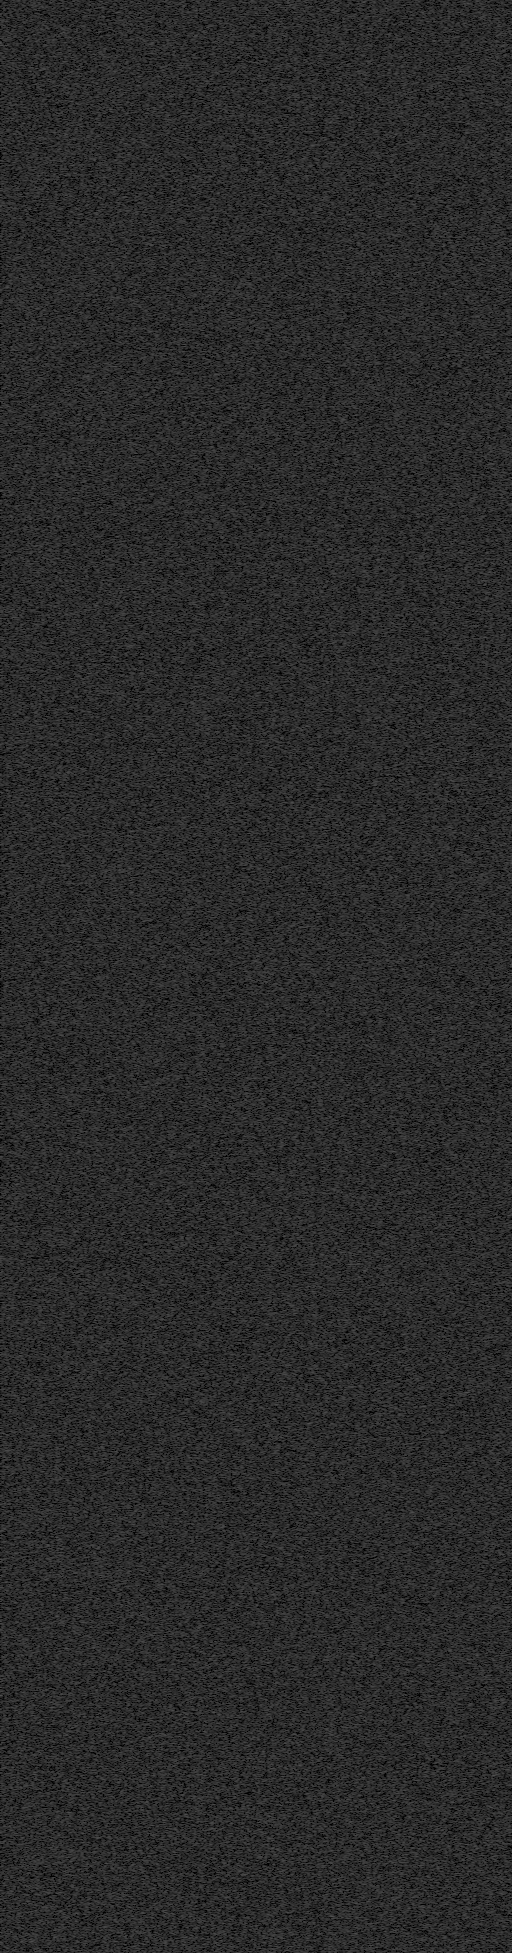wv_cw: (485, 0, 490, 1952)
wv_lsb: (472, 367, 477, 568), (472, 110, 477, 196), (472, 1258, 477, 1341), (472, 1478, 477, 1559), (472, 1373, 477, 1439), (472, 912, 477, 978), (472, 739, 477, 800), (472, 995, 477, 1051), (472, 655, 477, 711), (472, 575, 477, 630), (472, 1123, 477, 1177), (472, 1725, 477, 1775), (472, 249, 477, 295), (472, 1863, 477, 1908), (472, 801, 477, 844), (472, 197, 477, 239), (472, 1564, 476, 1617), (472, 1206, 476, 1257), (472, 1087, 477, 1123), (472, 1909, 477, 1946), (472, 1784, 477, 1820), (472, 1823, 477, 1858), (472, 1052, 477, 1086), (472, 304, 477, 338), (472, 1694, 477, 1724), (472, 1343, 477, 1373), (472, 30, 477, 59), (472, 886, 477, 910), (472, 858, 477, 883), (472, 1672, 477, 1693), (472, 90, 477, 110), (472, 1455, 476, 1478), (472, 351, 477, 367), (472, 979, 477, 994), (472, 60, 477, 75), (472, 631, 476, 649), (472, 846, 477, 857), (472, 720, 477, 731), (472, 1440, 476, 1454), (472, 19, 477, 29), (472, 7, 477, 17), (472, 1618, 476, 1630), (472, 1178, 476, 1189), (472, 343, 477, 350), (472, 240, 477, 248), (472, 1191, 476, 1199), (472, 712, 477, 719), (472, 76, 477, 82), (472, 1653, 476, 1660), (472, 1644, 476, 1652), (472, 732, 476, 739), (472, 296, 476, 303), (472, 1776, 476, 1782), (472, 1662, 476, 1667), (473, 1632, 476, 1639), (472, 1947, 476, 1952), (472, 569, 476, 574), (472, 83, 476, 88), (472, 650, 476, 654), (473, 1199, 476, 1204)
wv_wbfm: (458, 0, 472, 1952), (448, 0, 461, 1789)
